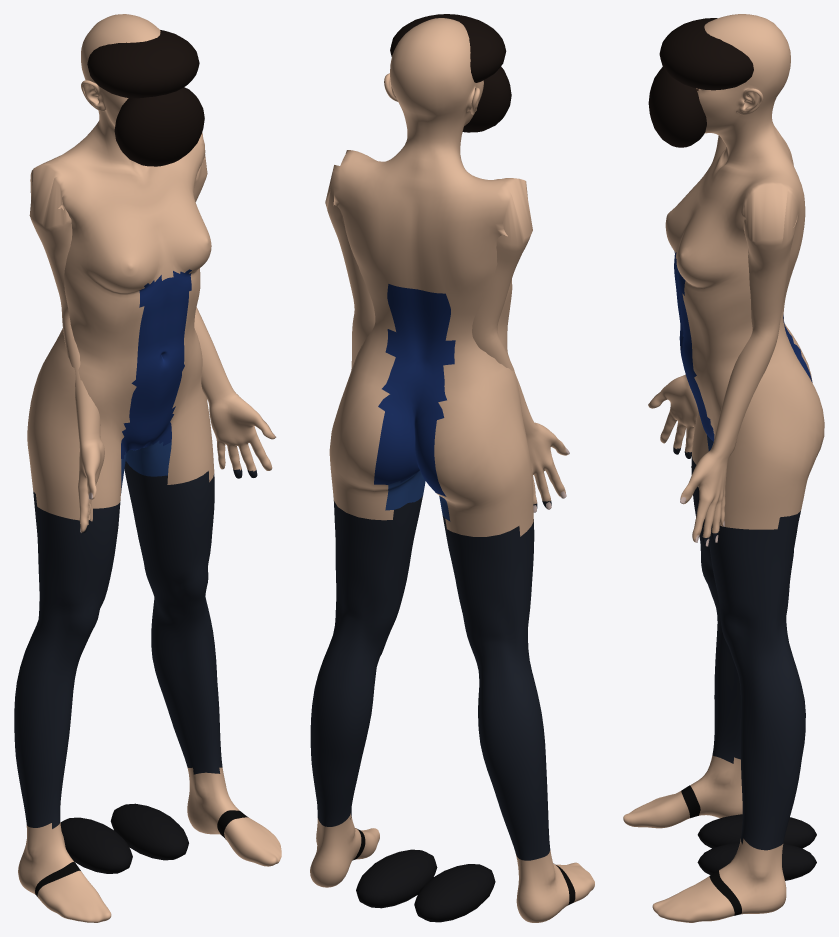
Rendered from hm_ped_rae_v15.obj.
The picture shows the model from 3 angles, left to right: view 1: azimuth 30°, elevation 25°; view 2: azimuth 150°, elevation 25°; view 3: azimuth 270°, elevation 25°; orthographic projection. The views are drawn at different scales.
Visible parts, largest first — view 1: hm_ped_rae; view 2: hm_ped_rae; view 3: hm_ped_rae.
Part boxes in pixels (box(x1,y1,x2,y2)): hm_ped_rae: box(14, 14, 281, 922); hm_ped_rae: box(310, 14, 594, 922); hm_ped_rae: box(623, 14, 824, 922).
Bounding box in the file's own units: 0.5111 × 1.72 × 0.3705.
